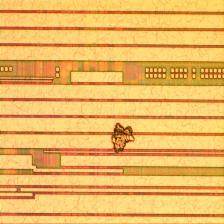BLOCK ETCH: (105, 121, 141, 157)
